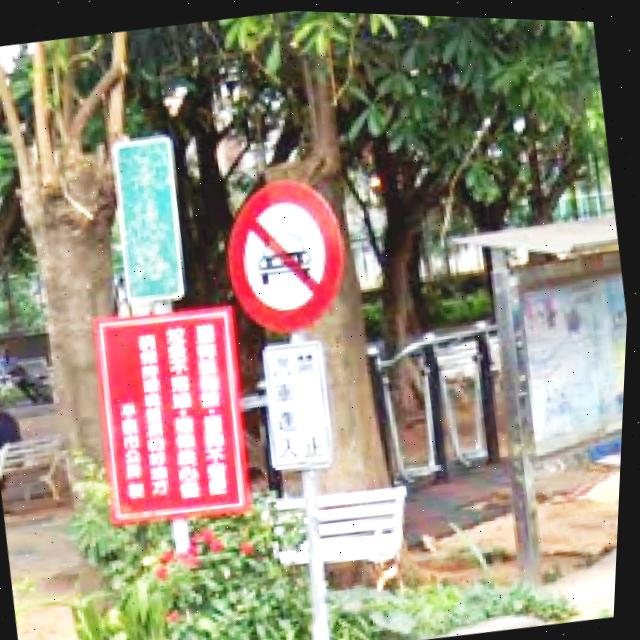nocar: (231, 178, 350, 331)
